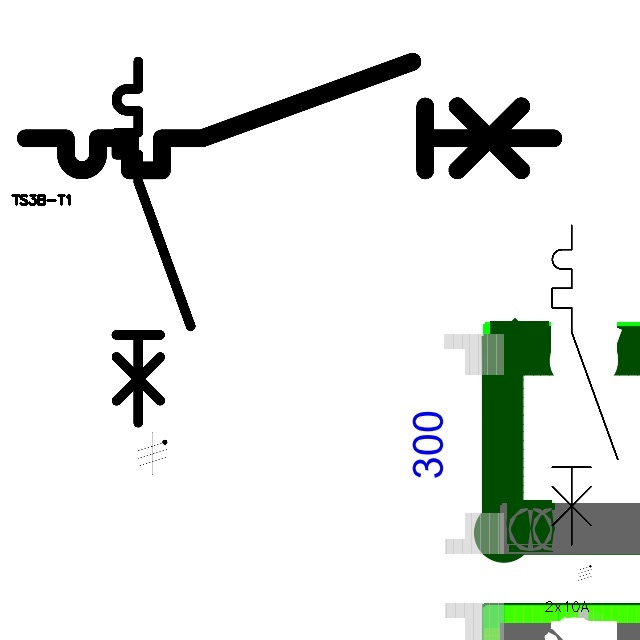interruptor_termomagnetico: (12, 48, 567, 184), (107, 52, 200, 432), (544, 217, 626, 553)
